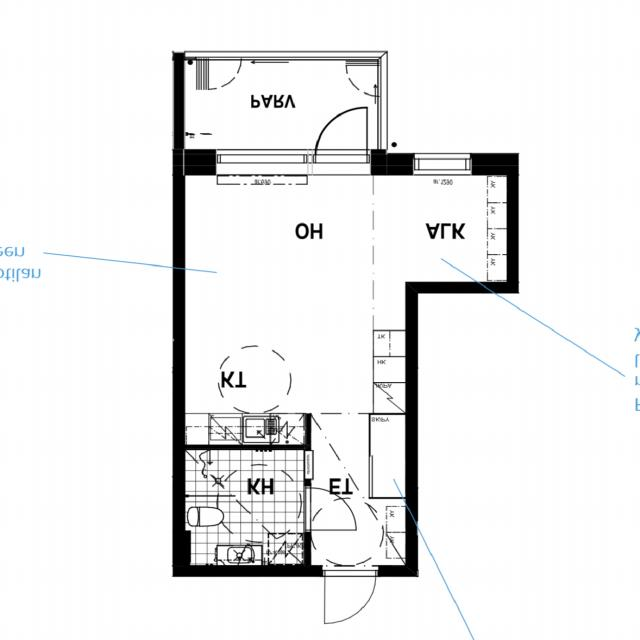door: (315, 101, 367, 175), (326, 566, 377, 624), (304, 488, 356, 529)
